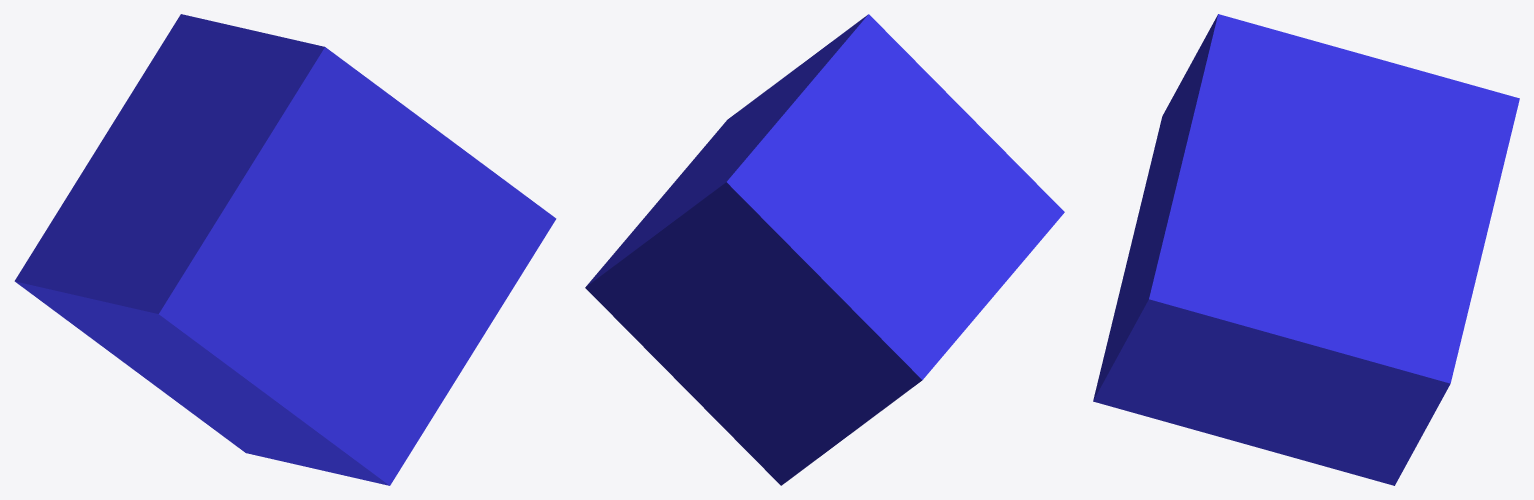
Rendered from Sans nom.glb.
The picture shows the model from 3 angles, left to right: view 1: azimuth 30°, elevation 25°; view 2: azimuth 150°, elevation 25°; view 3: azimuth 270°, elevation 25°; orthographic projection. The views are drawn at different scales.
Visible parts, largest first — view 1: Cube; view 2: Cube; view 3: Cube.
Boxes of the visible parts, x1,y1,x2,y2 form: Cube: (14, 14, 556, 485); Cube: (585, 14, 1064, 485); Cube: (1093, 14, 1519, 485).
Size of the model in its own units: 5.78 by 6.54 by 5.42.
